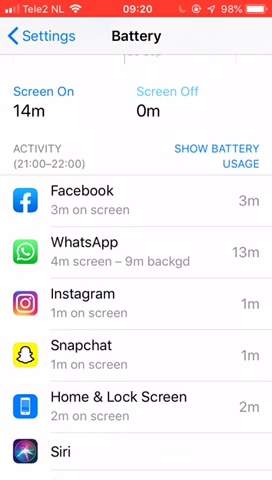activity: (12, 140, 113, 171)
app: (10, 182, 268, 220), (9, 230, 267, 268), (12, 283, 270, 321), (10, 339, 268, 377), (11, 388, 269, 426)
